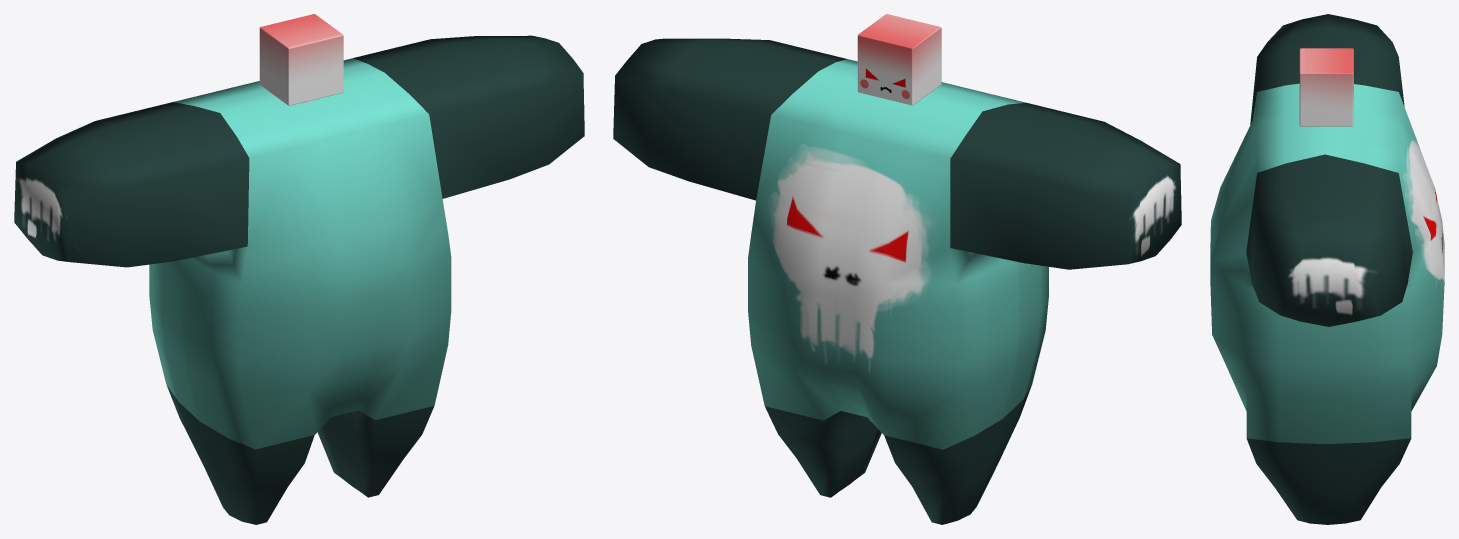
The model's file is Titan_T_Pose.fbx.
The picture shows the model from 3 angles, left to right: view 1: azimuth 30°, elevation 25°; view 2: azimuth 150°, elevation 25°; view 3: azimuth 270°, elevation 25°; orthographic projection. The views are drawn at different scales.
Visible parts, largest first — view 1: SM_Titan_01; view 2: SM_Titan_01; view 3: SM_Titan_01.
Boxes of the visible parts, box(x1,y1,x2,y2) form: SM_Titan_01: box(14, 14, 584, 524); SM_Titan_01: box(613, 14, 1181, 524); SM_Titan_01: box(1210, 14, 1444, 524).
Bounding box in the file's own units: 1030 × 891 × 437.
